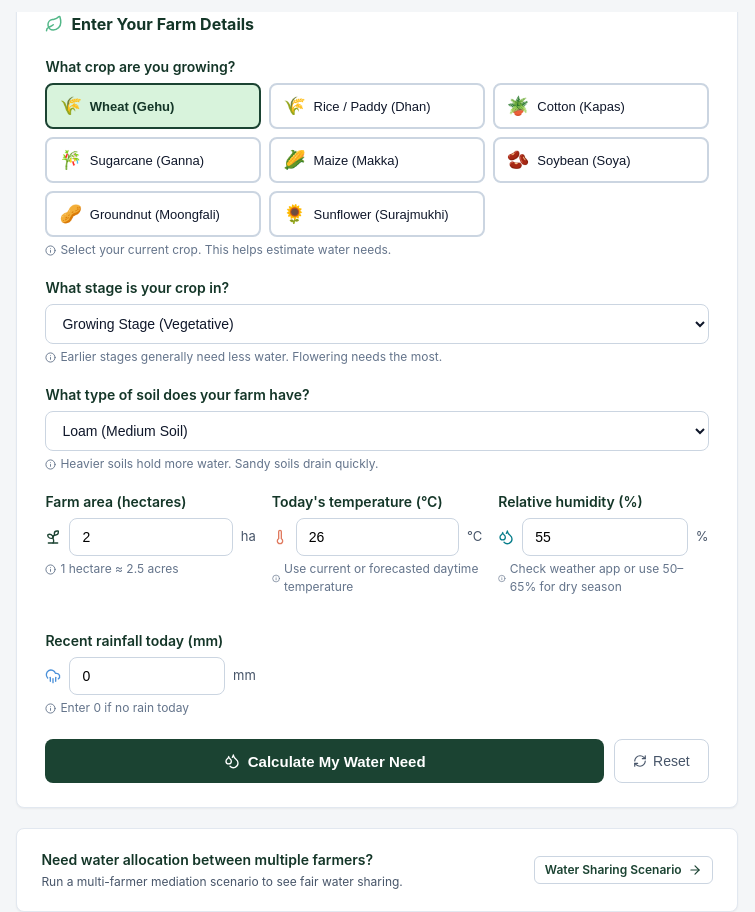
Test: FarmerPortalPage & Phase 14 Farmer Route Flow › handles reset button and resets inputs to defaults
The width and height of the screenshot is (755, 912).
(page scrolled)
Replace the text in the number field labelled "Farm area (hectares)" with "5.5" at {"x": 151, "y": 537}, box [69,518,233,556]
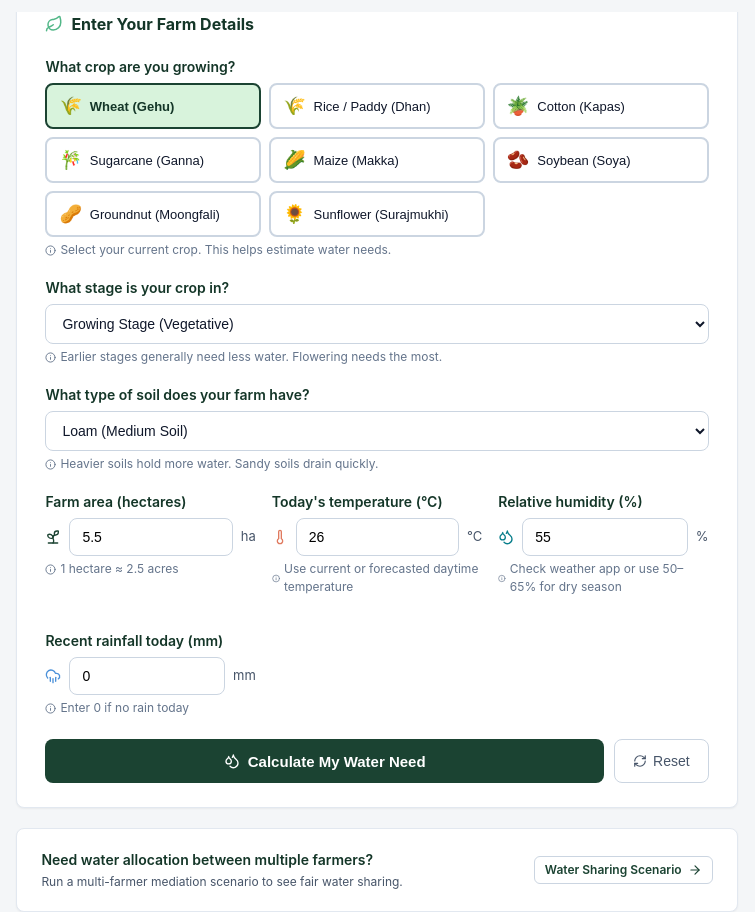
Click the button "Reset" at {"x": 661, "y": 761}, box [614,739,709,783]
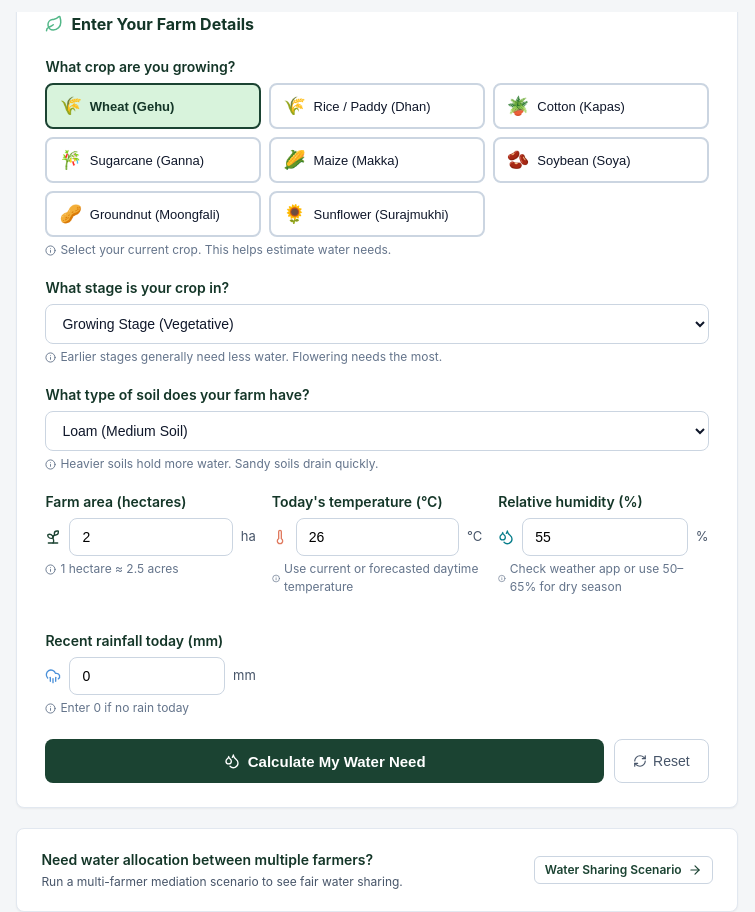
Now the number field labelled "Farm area (hectares)" holds "2", box [69,518,233,556]
